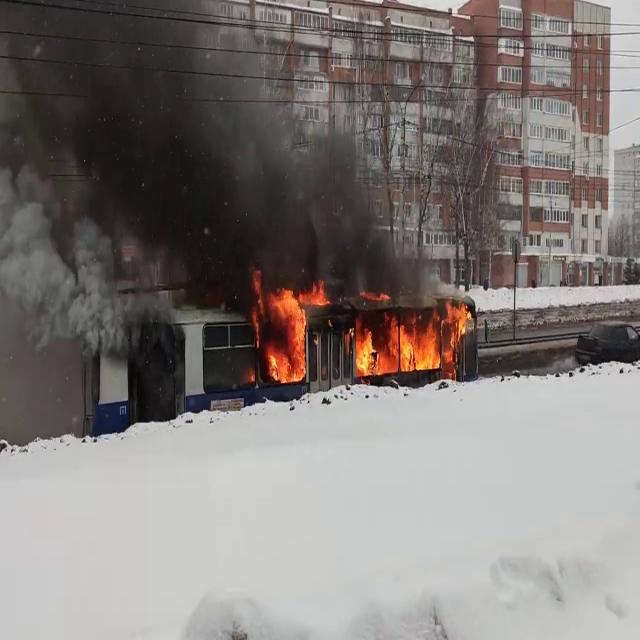Fire: (348, 297, 476, 379), (253, 276, 324, 383)
Smoke: (0, 16, 428, 327)
